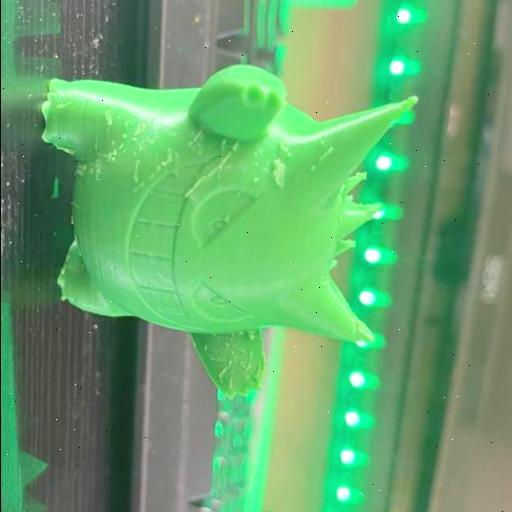blobs: (118, 128, 128, 142), (108, 146, 118, 156), (251, 175, 259, 186), (110, 154, 118, 164)
